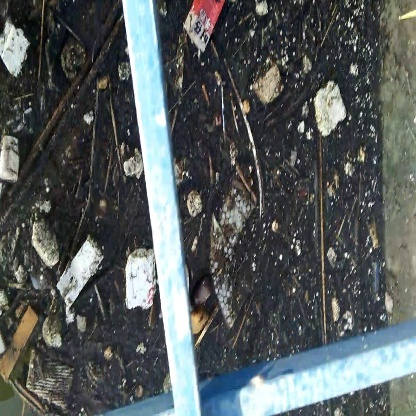bottle: (120, 242, 157, 313)
milk-box: (52, 233, 104, 307)
